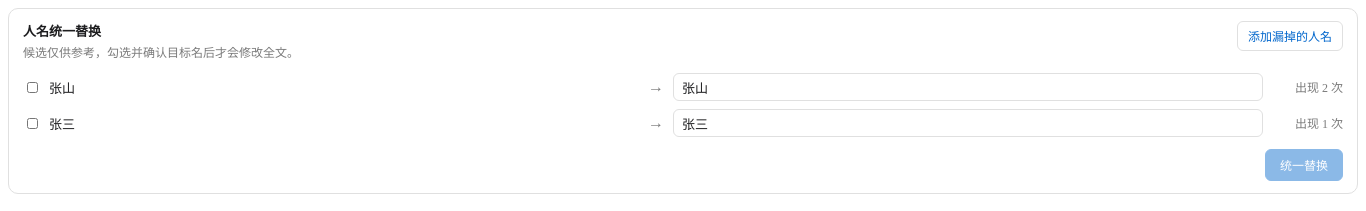
Test case: 渲染候选次数并提交用户勾选的替换映射
Expected: the text "出现 2 次" is shown, left=1295, top=81, right=1343, bottom=95
Click the checkbox named "选择 张山": (32, 87) left=27, top=80, right=38, bottom=94
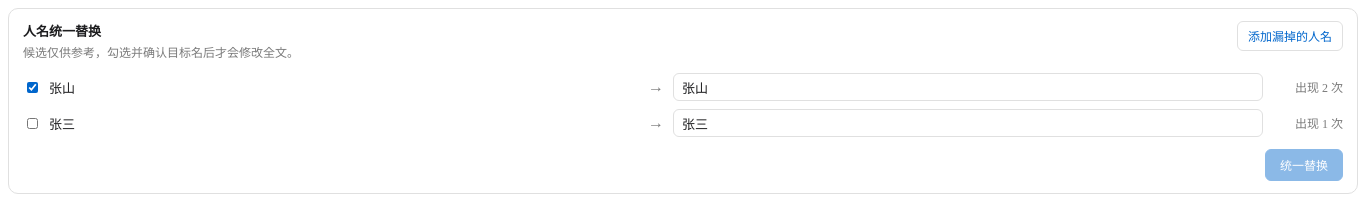
Replace the text in the field named "将 张山 替换为" with "张三": (968, 87) left=673, top=73, right=1263, bottom=101
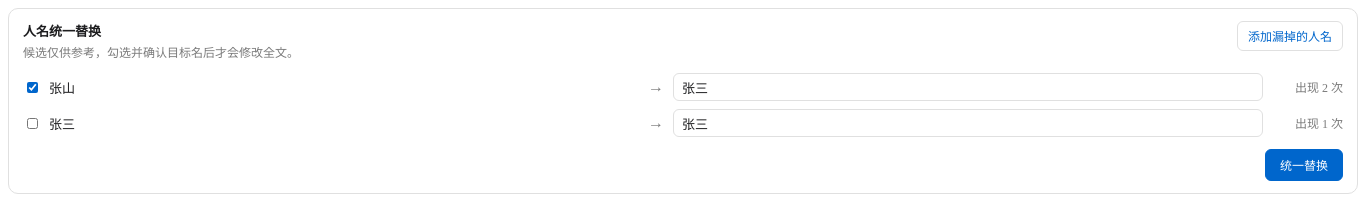
Click the button "统一替换": (1304, 165) left=1265, top=149, right=1343, bottom=181
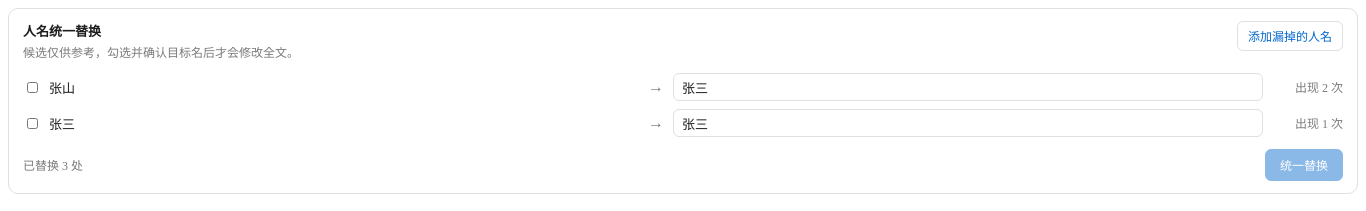
Now the text "已替换 3 处" is shown, box left=23, top=156, right=83, bottom=174
